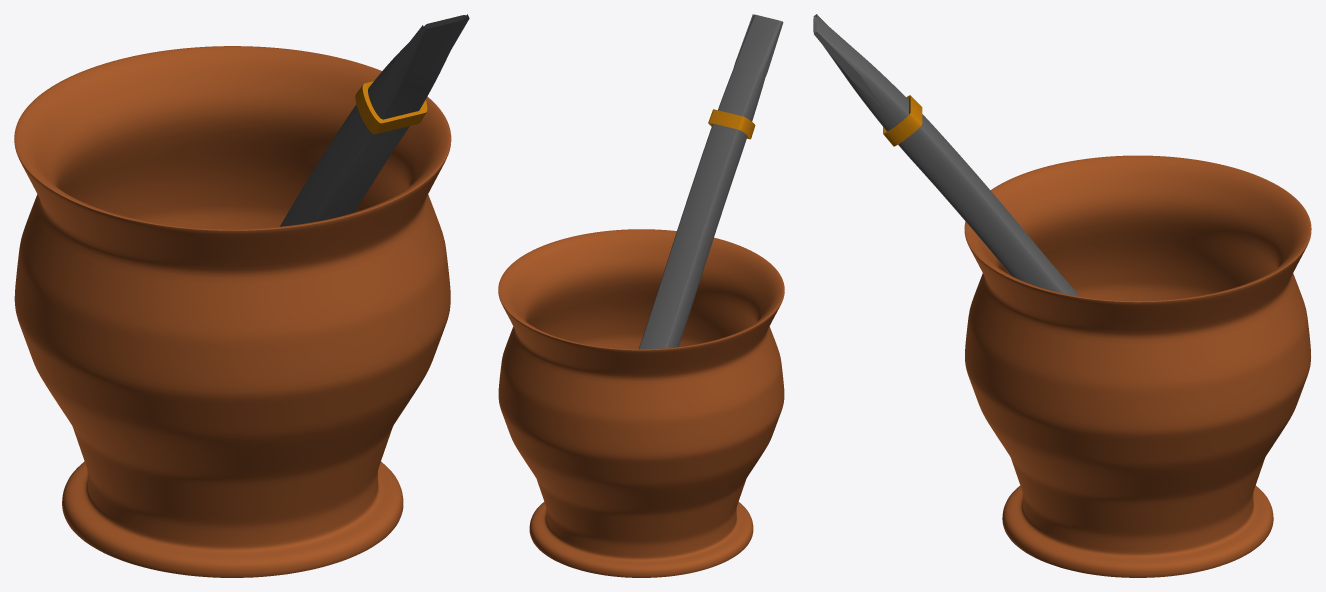
The picture shows the model from 3 angles, left to right: view 1: azimuth 30°, elevation 25°; view 2: azimuth 150°, elevation 25°; view 3: azimuth 270°, elevation 25°; orthographic projection. The views are drawn at different scales.
Visible parts, largest first — view 1: Mate, Plane; view 2: Mate, Plane; view 3: Mate, Plane.
Part boxes in pixels (box(x1,y1,x2,y2)): Mate: box(14, 46, 451, 577); Plane: box(279, 14, 469, 226); Mate: box(498, 229, 784, 577); Plane: box(639, 14, 783, 349); Mate: box(964, 155, 1311, 577); Plane: box(813, 14, 1079, 296).
Size of the model in its own units: 2.54 by 4.07 by 3.65.
